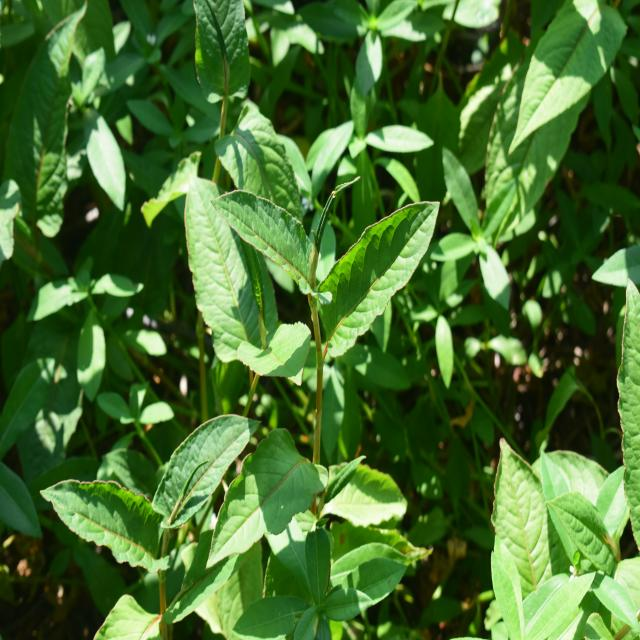Chinese_knotweed: (191, 183, 415, 515), (54, 414, 264, 607)
